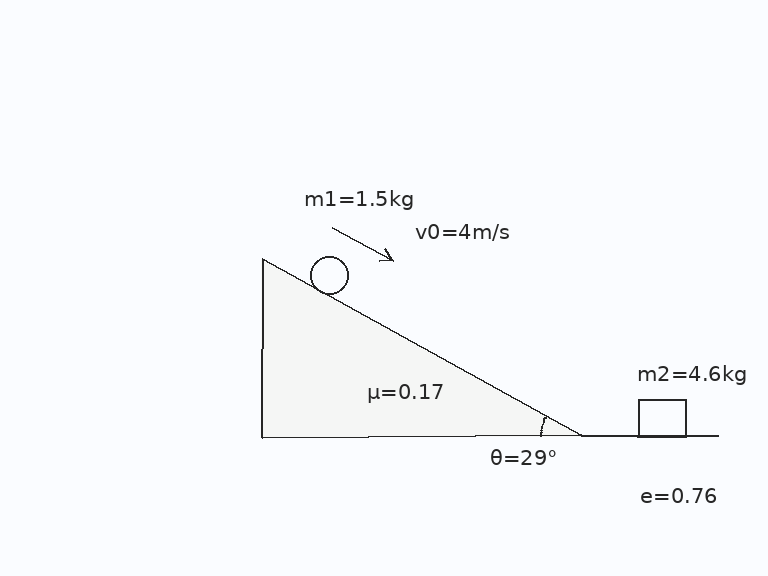ball: (308, 254, 350, 296)
block: (636, 398, 688, 438)
ramp: (260, 257, 583, 438)
